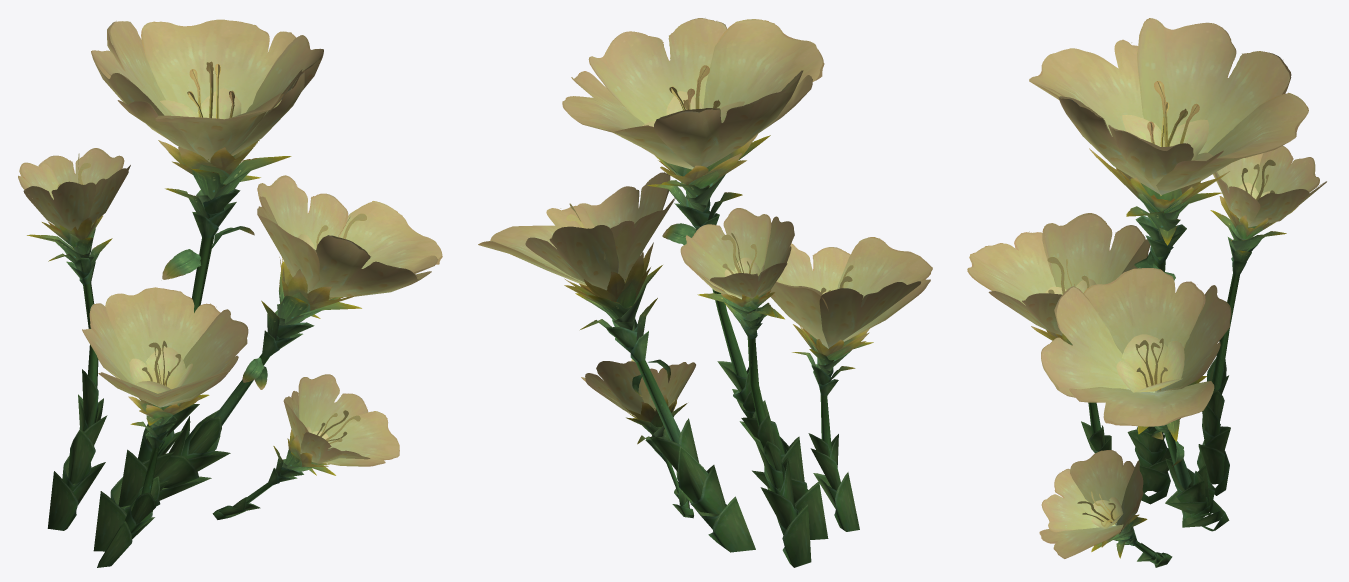
Rendered from Homeworld_Exterior_Xm_Plant_Tree_Common_03_Lod0.fbx.
3 renders of one model, left to right at view 1: azimuth 30°, elevation 25°; view 2: azimuth 150°, elevation 25°; view 3: azimuth 270°, elevation 25°, orthographic. The views are drawn at different scales.
Visible parts, largest first — view 1: Area_Xm_Tree_Common_RedF_01_02_Lod0, Area_Xm_Tree_Common_RedF_01_01_Lod0; view 2: Area_Xm_Tree_Common_RedF_01_02_Lod0, Area_Xm_Tree_Common_RedF_01_01_Lod0; view 3: Area_Xm_Tree_Common_RedF_01_01_Lod0, Area_Xm_Tree_Common_RedF_01_02_Lod0.
Part boxes in pixels (x1,y1,x2,y2): Area_Xm_Tree_Common_RedF_01_02_Lod0: (18,21,442,567); Area_Xm_Tree_Common_RedF_01_01_Lod0: (19,19,441,465); Area_Xm_Tree_Common_RedF_01_02_Lod0: (478,18,932,567); Area_Xm_Tree_Common_RedF_01_01_Lod0: (482,18,931,406); Area_Xm_Tree_Common_RedF_01_01_Lod0: (969,19,1324,557); Area_Xm_Tree_Common_RedF_01_02_Lod0: (967,18,1326,567).
Size of the model in its own units: 6.02 by 6.91 by 4.72.
